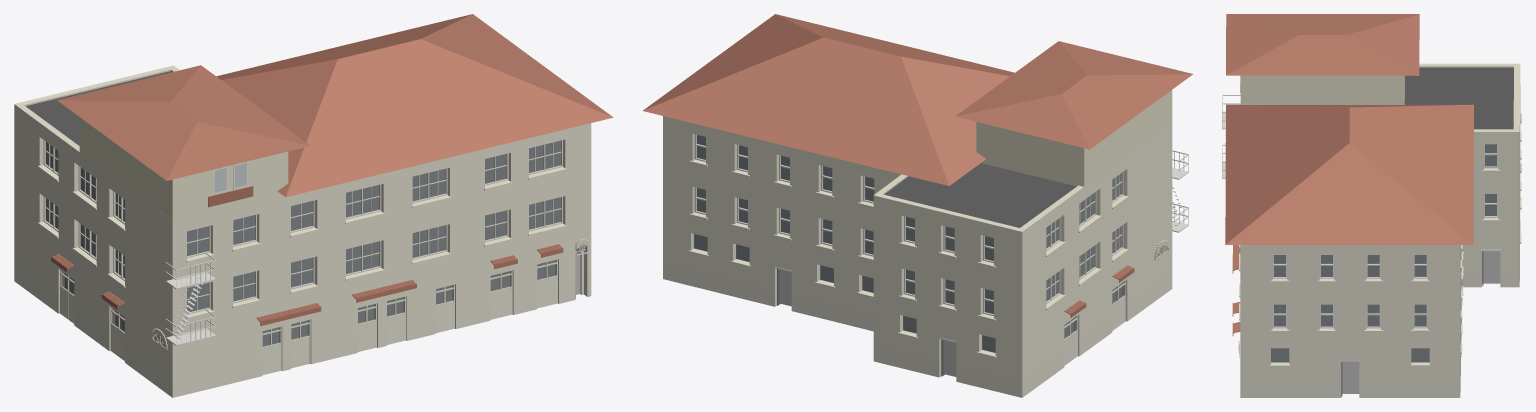
The model's file is exterior.glb.
3 renders of one model, left to right at view 1: azimuth 30°, elevation 25°; view 2: azimuth 150°, elevation 25°; view 3: azimuth 270°, elevation 25°, orthographic. The views are drawn at different scales.
Parts seen in each view (by area): view 1: shell, relief-5.001, glazing, shadow-proxy, storefront, frames, fire-escape, trim, roof, relief-5, awning-spans-5; view 2: shell, relief-5.001, roof, glazing, shadow-proxy, frames, trim, storefront, fire-escape; view 3: relief-5.001, shell, roof, shadow-proxy, glazing, frames, trim.
Part boxes in pixels (x1,y1,x2,y2): shell: [14, 65, 591, 397]; relief-5.001: [57, 14, 613, 222]; glazing: [46, 140, 585, 346]; shadow-proxy: [46, 141, 580, 345]; storefront: [60, 245, 585, 375]; frames: [43, 140, 562, 314]; fire-escape: [165, 252, 216, 345]; trim: [37, 165, 566, 319]; roof: [25, 71, 171, 145]; relief-5: [208, 161, 253, 207]; awning-spans-5: [256, 280, 416, 325]; shell: [663, 116, 1172, 397]; relief-5.001: [643, 14, 1193, 188]; roof: [884, 163, 1076, 227]; glazing: [694, 135, 1124, 352]; shadow-proxy: [694, 135, 1121, 376]; frames: [694, 134, 1123, 316]; trim: [688, 160, 1128, 358]; storefront: [774, 266, 1125, 376]; fire-escape: [1172, 150, 1188, 232]; relief-5.001: [1225, 14, 1473, 244]; shell: [1240, 63, 1520, 397]; roof: [1404, 67, 1513, 129]; shadow-proxy: [1271, 144, 1500, 393]; glazing: [1271, 144, 1496, 362]; frames: [1272, 144, 1498, 328]; trim: [1239, 113, 1521, 366].
Size of the model in its own units: 24.83 by 12.62 by 16.43.
